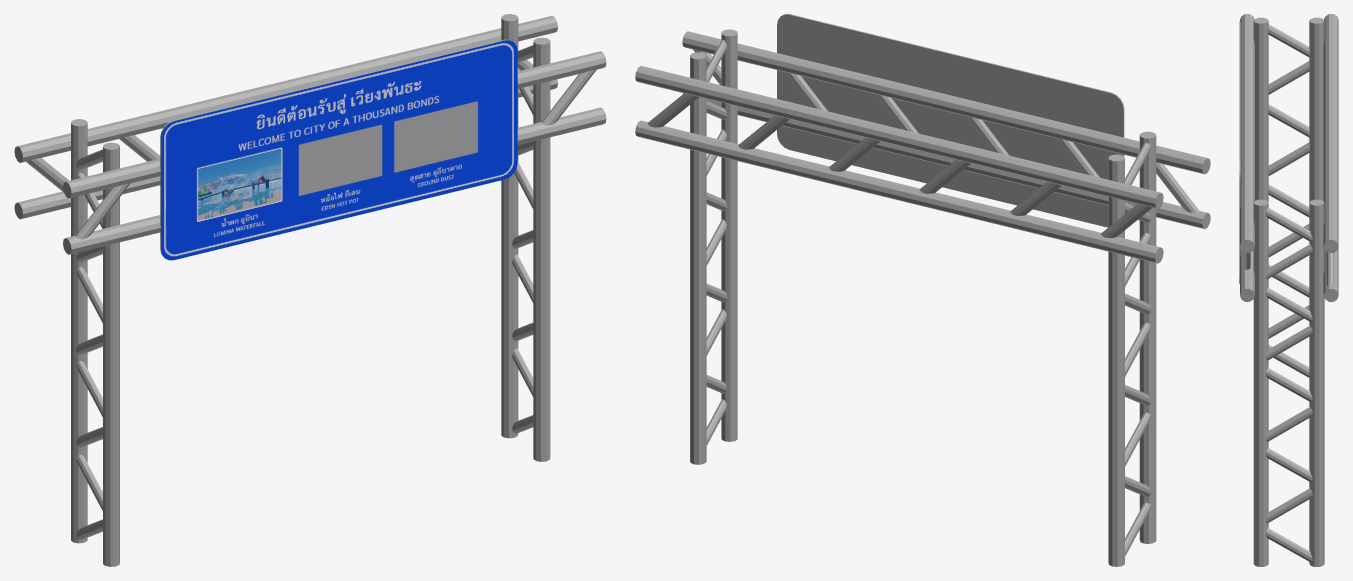
The model's file is welcomeToIS.glb.
The picture shows the model from 3 angles, left to right: view 1: azimuth 30°, elevation 25°; view 2: azimuth 150°, elevation 25°; view 3: azimuth 270°, elevation 25°; orthographic projection. The views are drawn at different scales.
Parts seen in each view (by area): view 1: Plane, Cylinder.006; view 2: Cylinder.006, Plane; view 3: Cylinder.006, Plane.
Part boxes in pixels (left/top/right/bottom): Plane: left=160, top=39, right=517, bottom=260; Cylinder.006: left=14, top=14, right=606, bottom=566; Cylinder.006: left=635, top=29, right=1210, bottom=566; Plane: left=777, top=14, right=1124, bottom=227; Cylinder.006: left=1240, top=14, right=1338, bottom=566; Plane: left=1239, top=21, right=1240, bottom=283.
Bounding box in the file's own units: 12.46 × 9.78 × 2.32.
2 materials, 1 textured.
